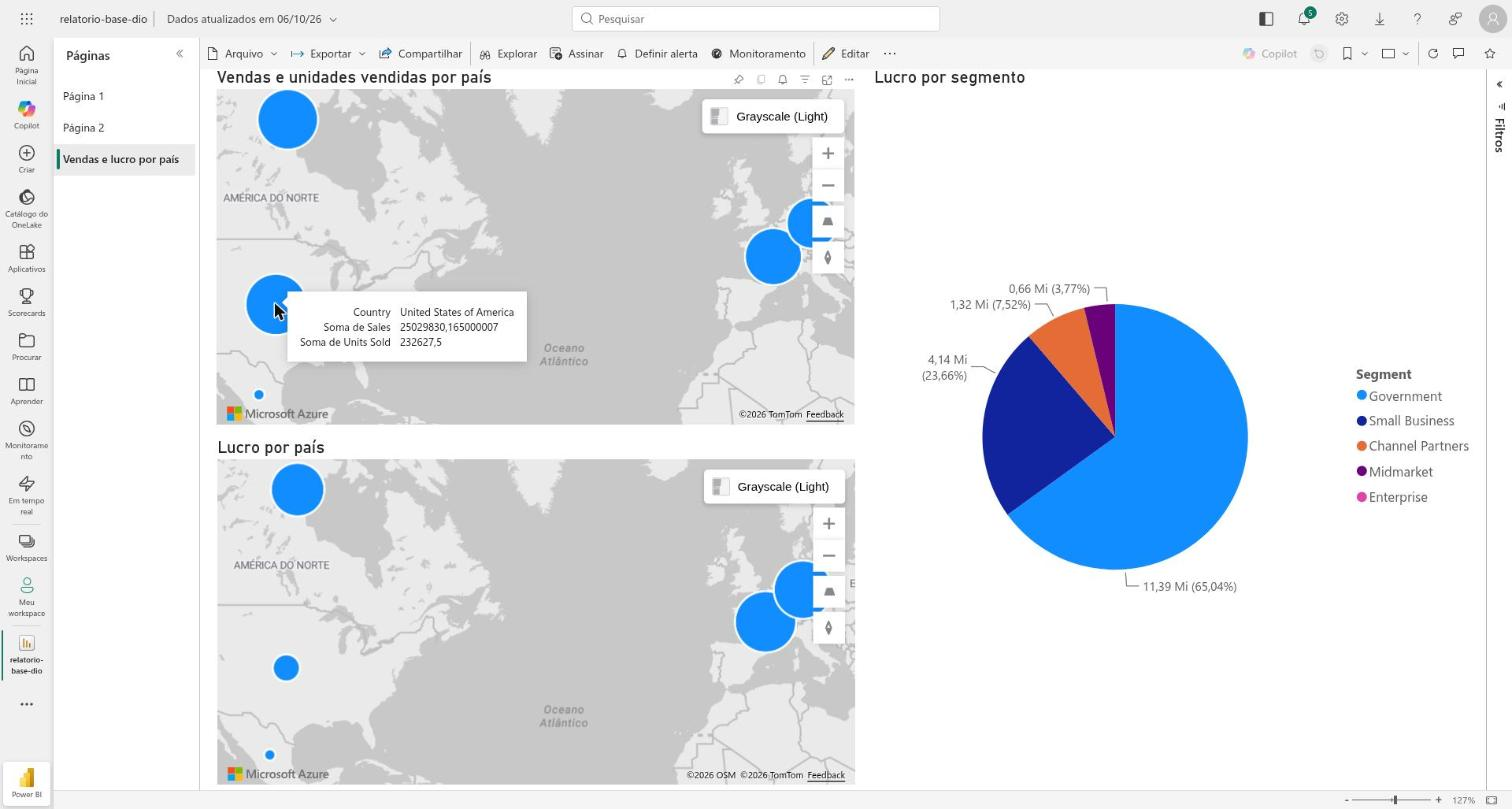

The page's visual inventory and layout, read from the dashboard file:
{"tool":"powerbi","page":{"name":"Vendas e lucro por país","canvas":[1280,720],"ordinal":2},"visuals":[{"type":"azureMap","title":"Vendas e unidades vendidas por país","fields":{"Category":["financials.Country"],"Size":["Sum(financials. Sales)"]},"box":[9.7,0,646.6,360.2],"z":0},{"type":"azureMap","title":"Lucro por país","fields":{"Category":["financials.Country"],"Size":["Sum(financials.Profit)"]},"box":[10,370,647,350],"z":1},{"type":"pieChart","title":"Lucro por segmento","fields":{"Category":["financials.Segment"],"Y":["Sum(financials.Profit)"]},"box":[666.8,0,613.2,719.5],"z":2}]}

Visuals, with their boxes on the page's 1280x720 design canvas (x1, y1, x2, y2). These are canvas units, not pixel positions in the 1512x809 screenshot, which may show the page scaled, cropped or inside an application window:
"Vendas e unidades vendidas por país" azureMap: 10 0 656 360
"Lucro por país" azureMap: 10 370 657 720
"Lucro por segmento" pieChart: 667 0 1280 720
